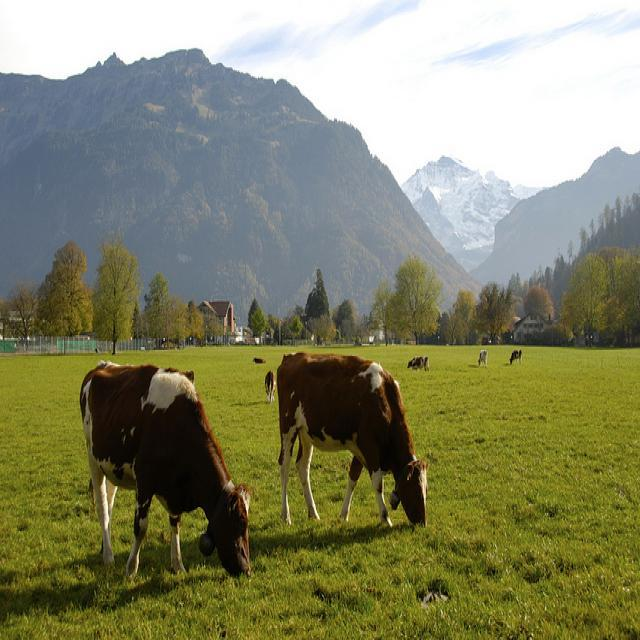cow: (78, 353, 254, 606), (274, 345, 435, 534), (263, 368, 274, 402), (405, 355, 428, 370), (507, 347, 521, 363), (476, 349, 486, 367), (250, 353, 265, 360), (93, 344, 98, 351)
